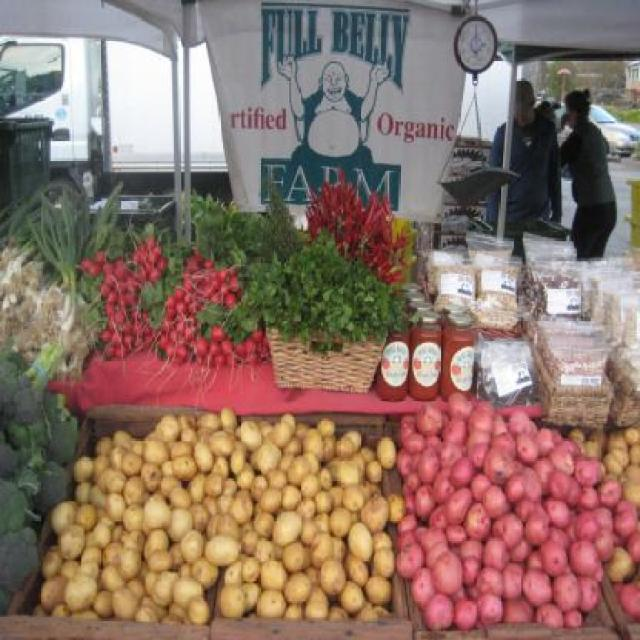Potato: (29, 386, 638, 634)
